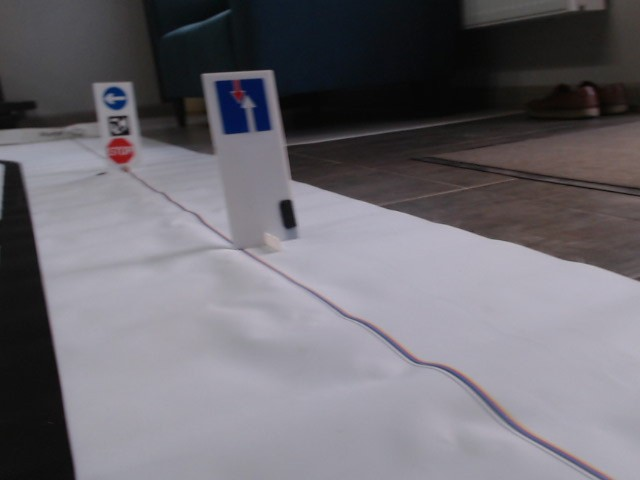Stop: (104, 136, 134, 164)
priority_movement: (215, 77, 274, 135)
